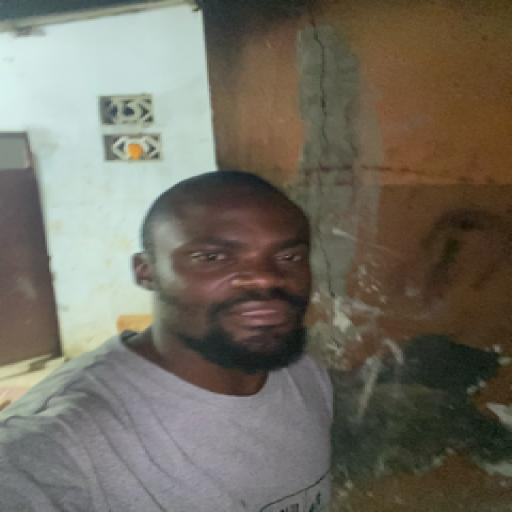JEANLUC: (138, 177, 330, 376)
